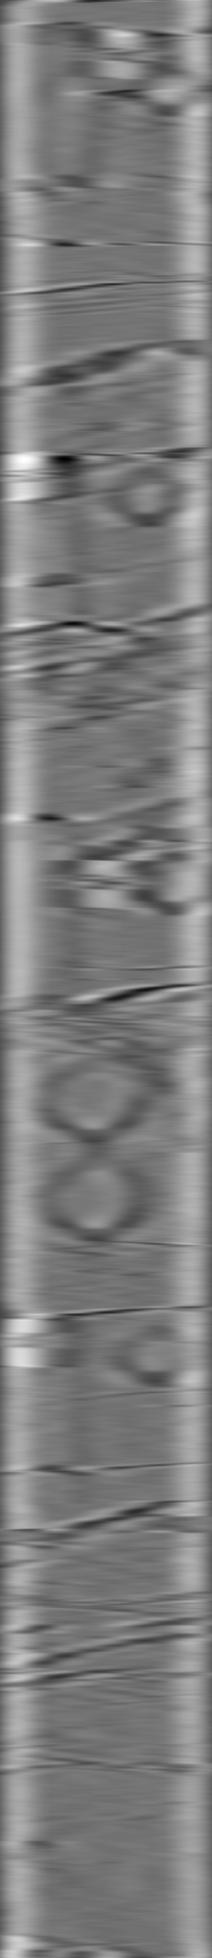hplug: (105, 460, 187, 532), (127, 47, 205, 124), (115, 1317, 193, 1392), (137, 850, 211, 924)
scal: (41, 1048, 148, 1150), (39, 1150, 148, 1246)
vplug: (7, 805, 84, 1016), (31, 10, 107, 209), (21, 1316, 95, 1510), (12, 448, 94, 622)
